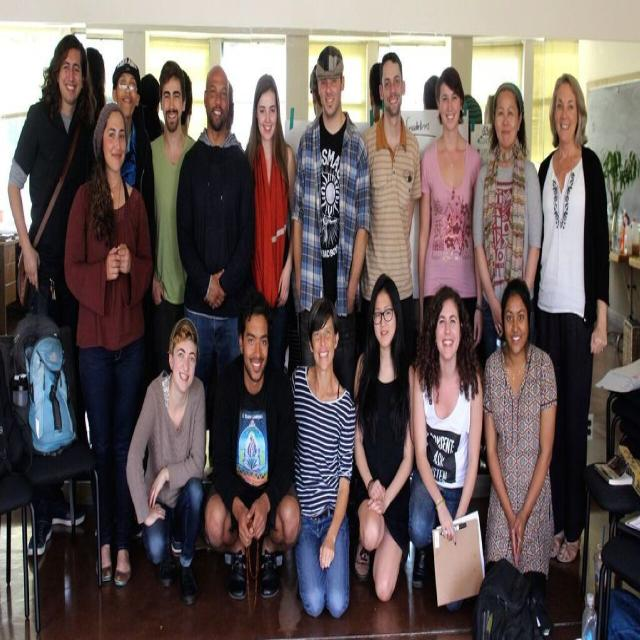body: (4, 31, 102, 568), (61, 100, 152, 590), (530, 68, 612, 566), (174, 63, 254, 471), (200, 287, 302, 605), (290, 40, 373, 405), (481, 275, 558, 624), (407, 282, 486, 613), (280, 295, 358, 621), (124, 313, 208, 608), (351, 269, 418, 605), (471, 80, 544, 382), (359, 51, 423, 359), (139, 57, 199, 373), (417, 66, 482, 351), (244, 72, 297, 373), (110, 56, 158, 334), (140, 72, 167, 132), (84, 45, 105, 114), (462, 91, 494, 135), (366, 59, 384, 128), (618, 205, 640, 258), (178, 68, 194, 140), (308, 60, 322, 122), (421, 71, 440, 112), (226, 76, 235, 136)
